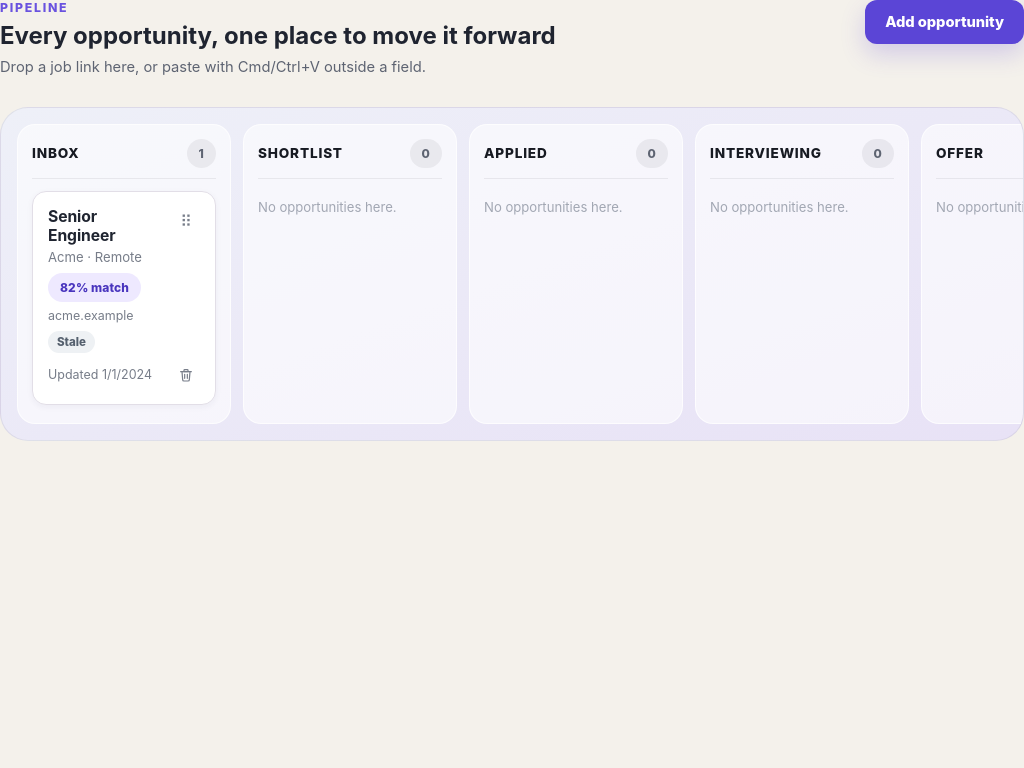
dismissing an opportunity from the board › does nothing at all when the confirmation is cancelled
Step 1. Click the button named "Dismiss Senior Engineer" → (186, 375), box 172,361 -> 200,389
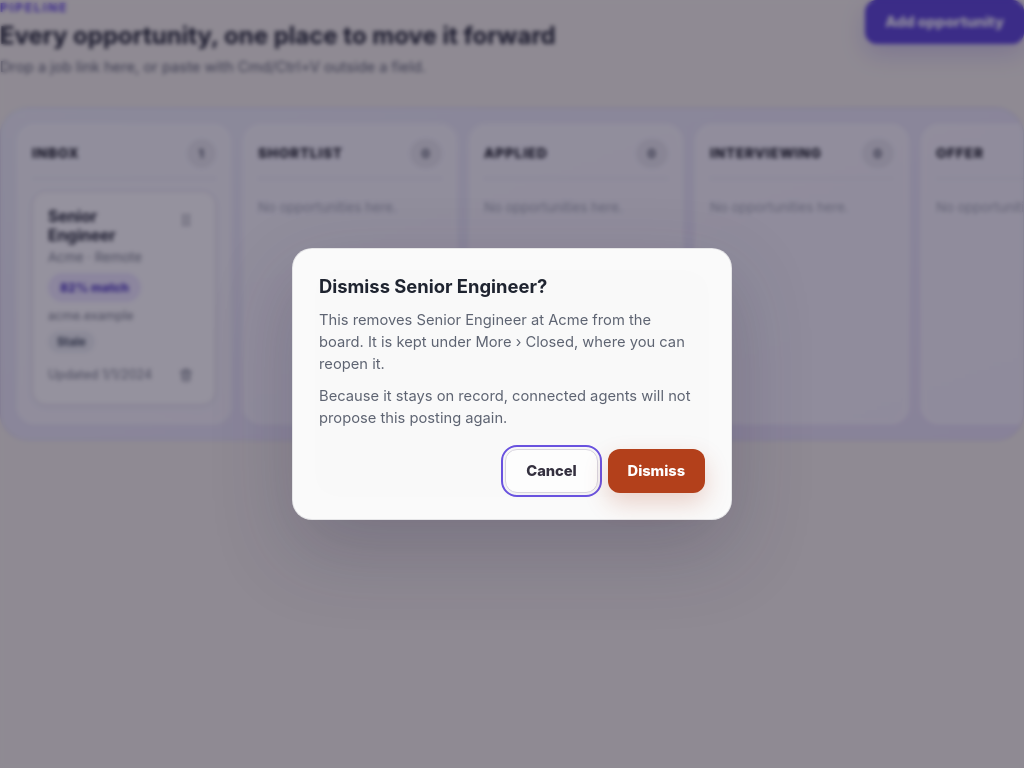
Step 2. Click the button "Cancel" → (551, 471), box 505,449 -> 598,493
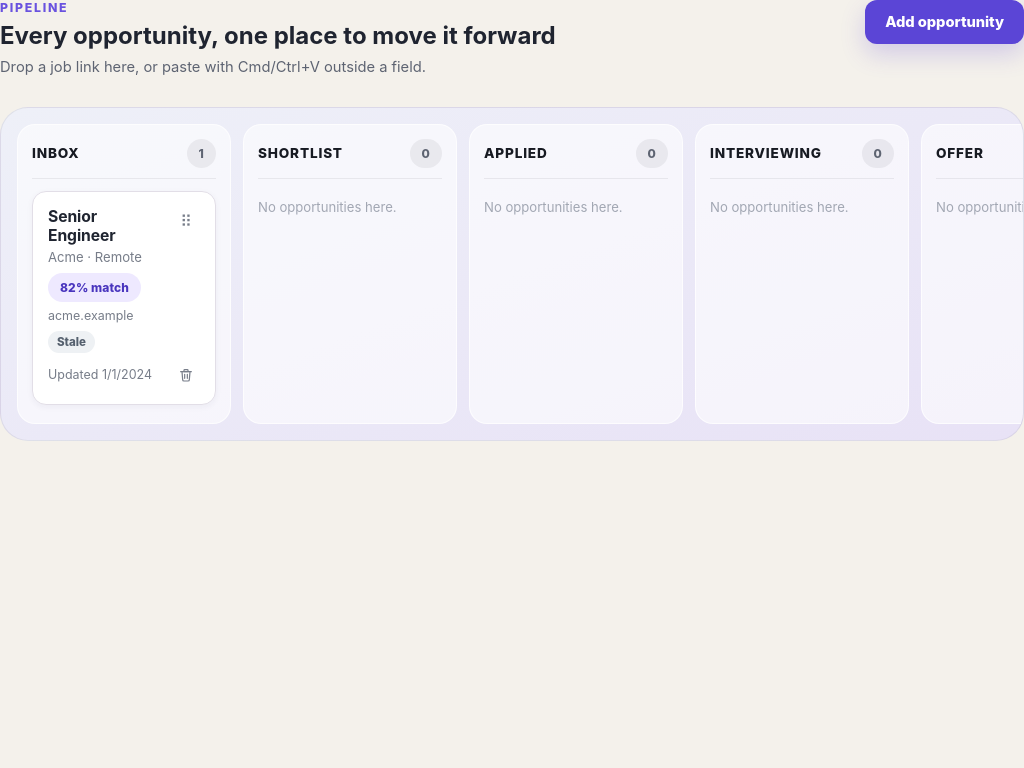
Now the dialog is gone
